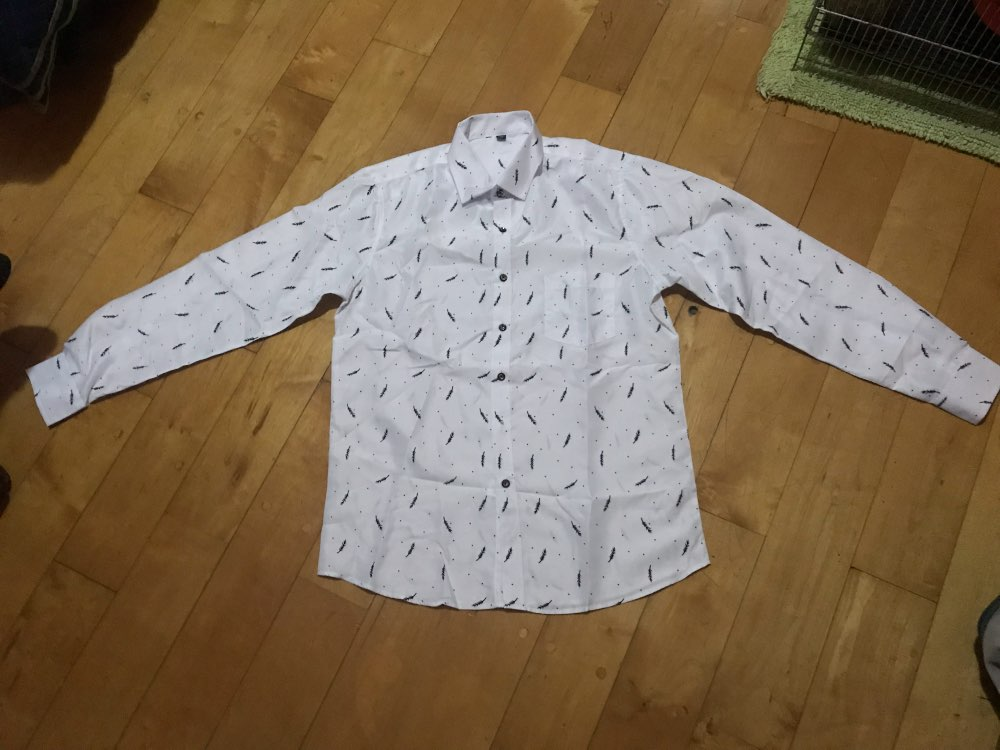shirts: (18, 110, 1000, 608)
